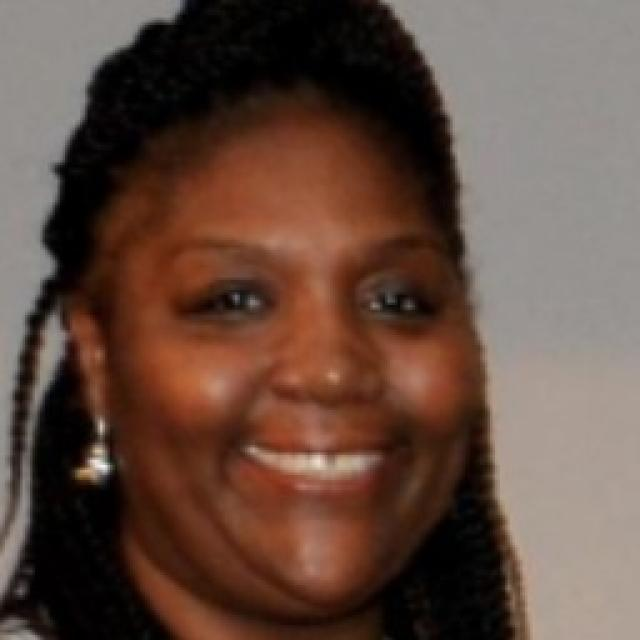no-glasses: (161, 254, 448, 348)
